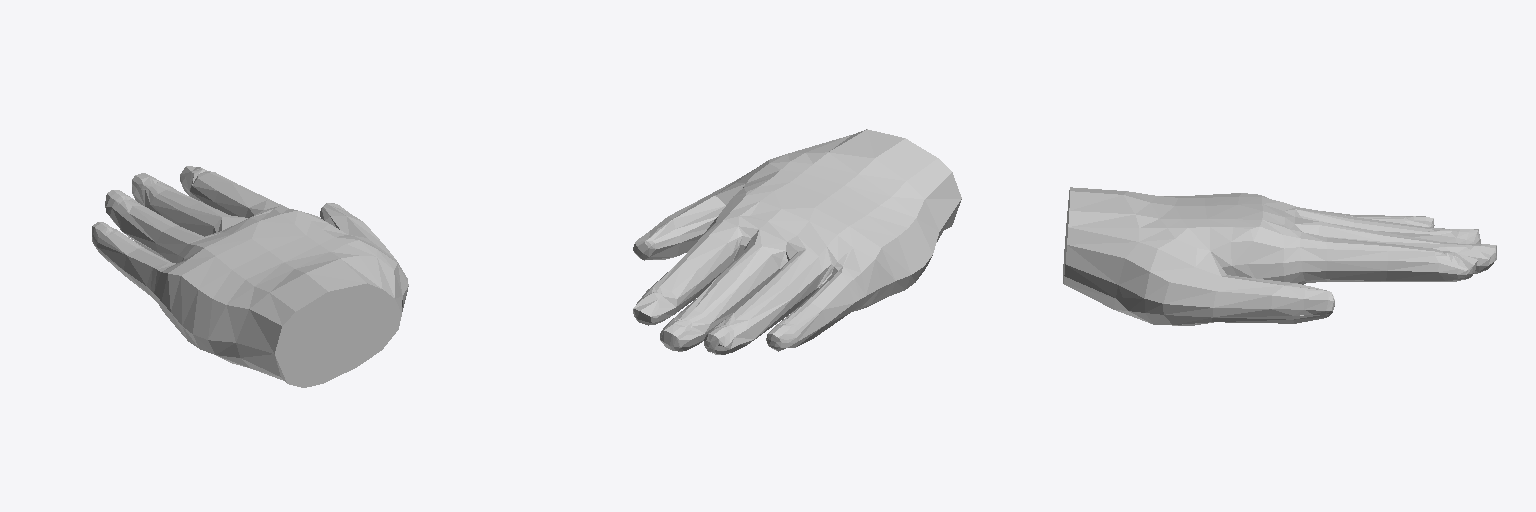
Rendered from L_WRIST_R.obj.
3 renders of one model, left to right at view 1: azimuth 30°, elevation 25°; view 2: azimuth 150°, elevation 25°; view 3: azimuth 270°, elevation 25°, orthographic.
Parts seen in each view (by area): view 1: 0; view 2: 0; view 3: 0.
Boxes of the visible parts, box(x1,y1,x2,y2) form: 0: box(92, 166, 408, 387); 0: box(633, 129, 961, 354); 0: box(1063, 187, 1496, 325).
Size of the model in its own units: 0.1032 by 0.044 by 0.1768.